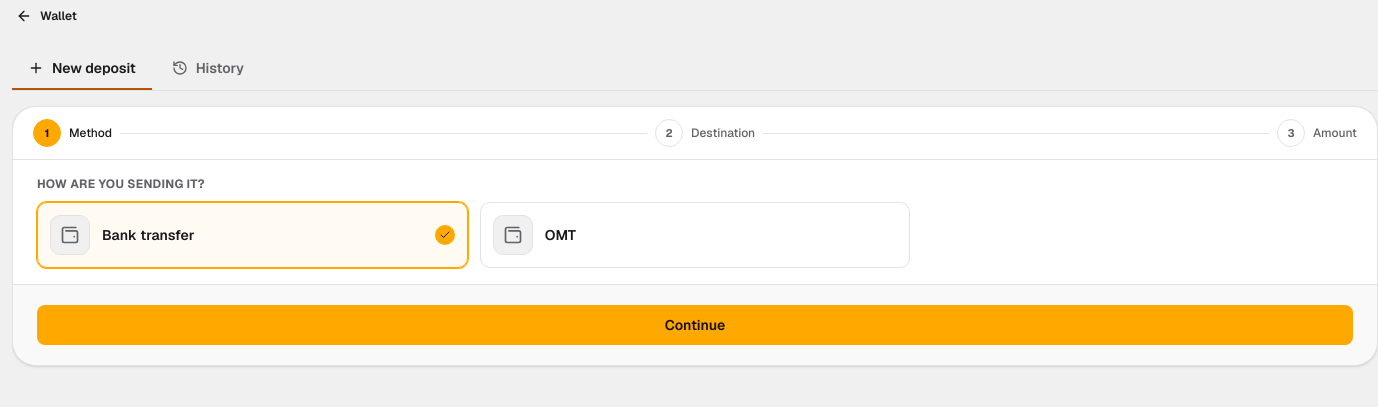
Scenario: the deposit form waits for every read it draws from › shows the wallet balance once every read has landed
Click the button "Continue": {"x": 695, "y": 325} [37, 305, 1353, 345]
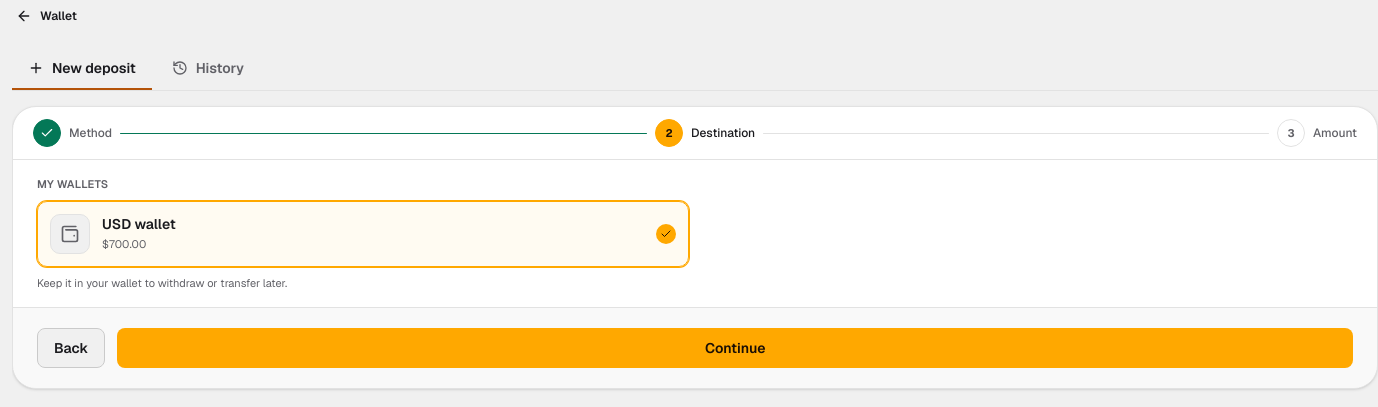
Result: the text "$700.00" is shown at [102, 237, 146, 251]
